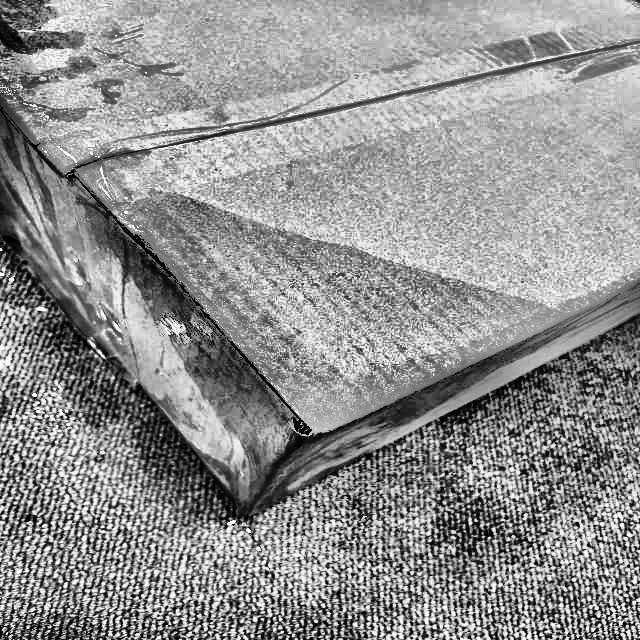box: (0, 0, 640, 524)
wet: (90, 166, 563, 488)
